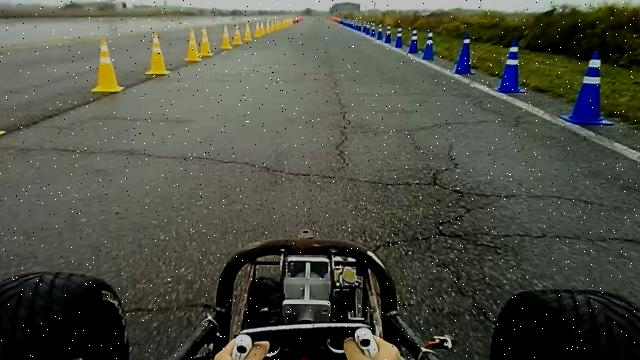blue cone: (559, 49, 615, 125), (494, 38, 527, 93), (453, 33, 476, 75), (422, 31, 436, 60), (407, 28, 419, 54), (394, 26, 403, 48), (384, 24, 392, 44), (376, 24, 384, 40)
yellow cone: (91, 38, 125, 92), (146, 31, 170, 76), (185, 27, 201, 62), (198, 26, 214, 56), (220, 24, 232, 50), (232, 24, 243, 46), (152, 31, 162, 49), (244, 22, 252, 42), (254, 21, 264, 37)
